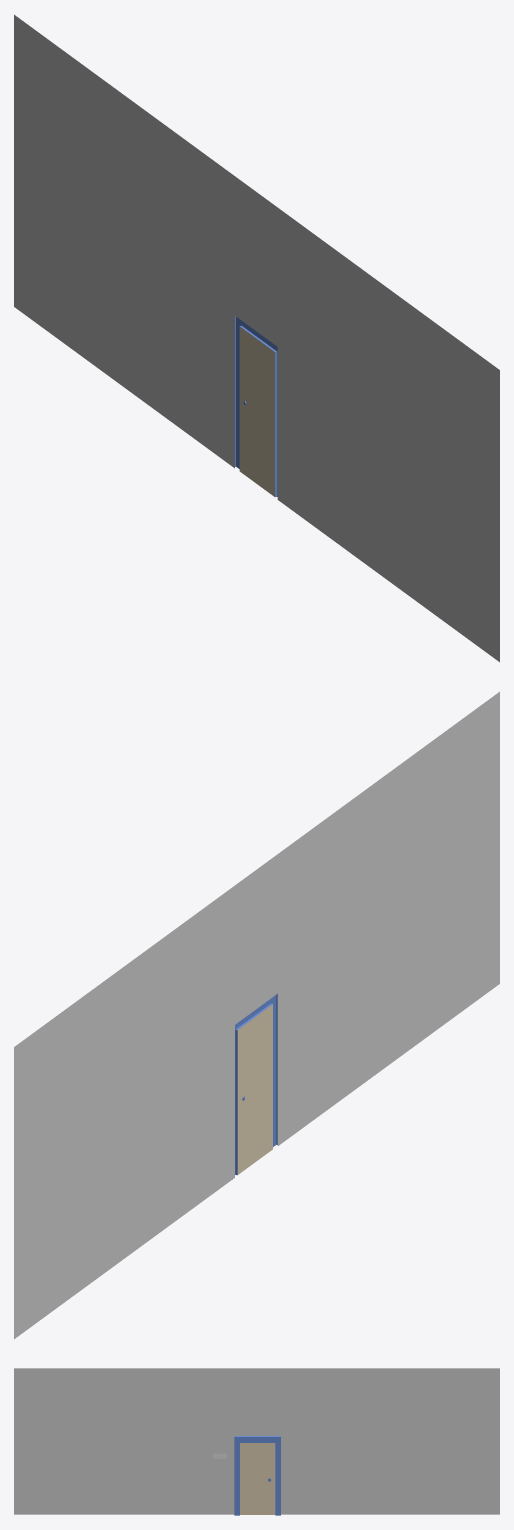
The model's file is door2.fbx.
3 views of the same model, one above another, from view 1: azimuth 30°, elevation 25°; view 2: azimuth 150°, elevation 25°; view 3: azimuth 270°, elevation 25° (orthographic). The views are drawn at different scales.
Visible parts, largest first — view 1: wall, door, frame; view 2: wall, door, frame; view 3: wall, door, frame.
Part boxes in pixels (<box>): wall: <box>14,14,499,662</box>; door: <box>239,326,274,496</box>; frame: <box>235,316,277,497</box>; wall: <box>14,691,499,1339</box>; door: <box>237,1004,272,1174</box>; frame: <box>235,994,277,1175</box>; wall: <box>14,1368,499,1514</box>; door: <box>240,1443,275,1514</box>; frame: <box>213,1436,280,1515</box>.
Bounding box in the file's own units: 28.25 × 1118 × 3363.
